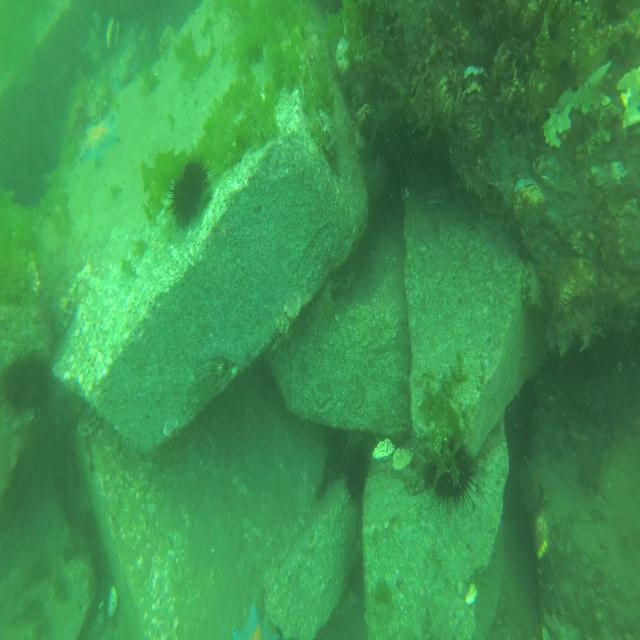echinus: (425, 432, 477, 511), (0, 350, 56, 416), (170, 158, 208, 230), (342, 441, 370, 505)
starfish: (78, 113, 122, 169), (232, 599, 279, 640)
